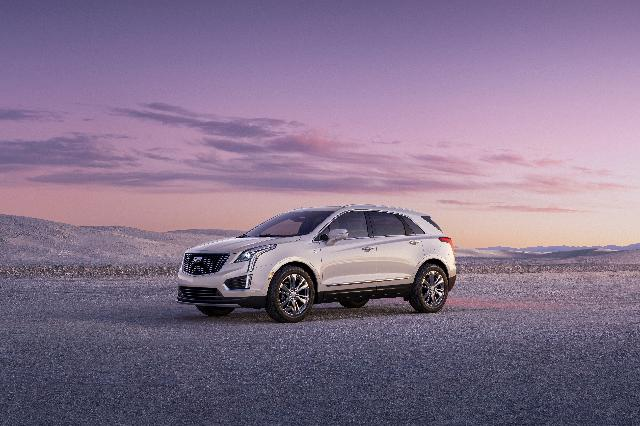cadillac: (176, 204, 457, 322)
